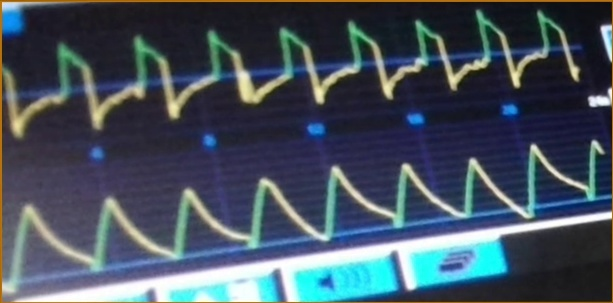Accumulation Flow: (1, 6, 578, 138)
Volume: (4, 143, 585, 290)
